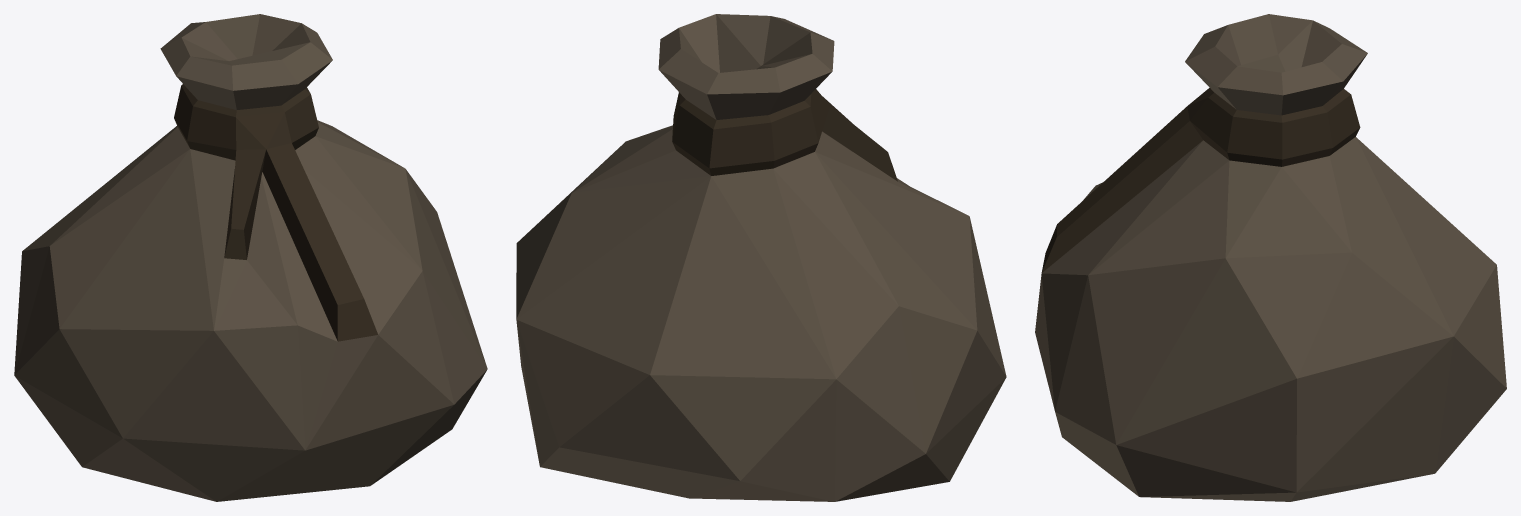
File: SM_Item_Bag_01.glb
3 renders of one model, left to right at view 1: azimuth 30°, elevation 25°; view 2: azimuth 150°, elevation 25°; view 3: azimuth 270°, elevation 25°, orthographic. The views are drawn at different scales.
Visible parts, largest first — view 1: SM_Item_Bag_01; view 2: SM_Item_Bag_01; view 3: SM_Item_Bag_01.
Part boxes in pixels (box(x1,y1,x2,y2)): SM_Item_Bag_01: box(14, 14, 487, 501); SM_Item_Bag_01: box(516, 14, 1006, 501); SM_Item_Bag_01: box(1035, 14, 1506, 501).
Size of the model in its own units: 0.00201 by 0.00179 by 0.00199.
Materials: 1 (1 with a texture image).
